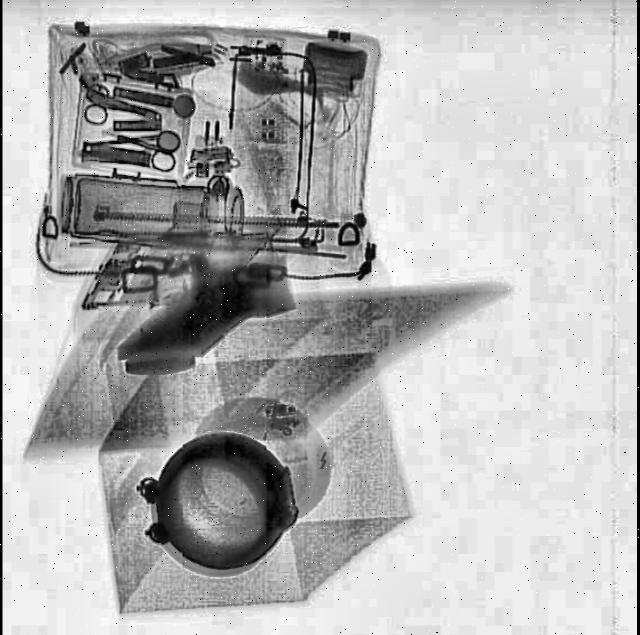Scissors: (99, 108, 184, 172), (84, 80, 159, 128)
